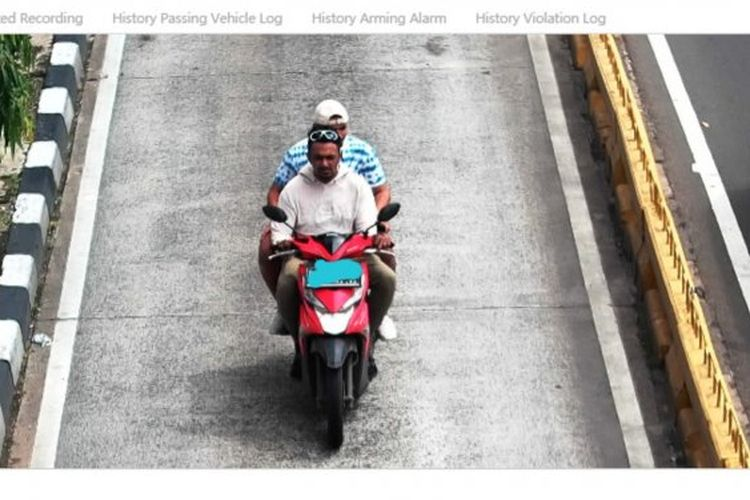motorbike: (259, 100, 401, 455)
